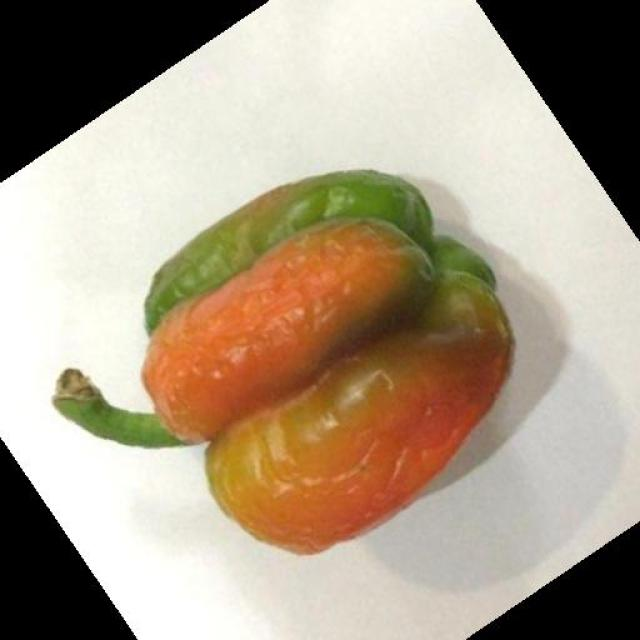Stale_Capsicum: (117, 175, 523, 548)
